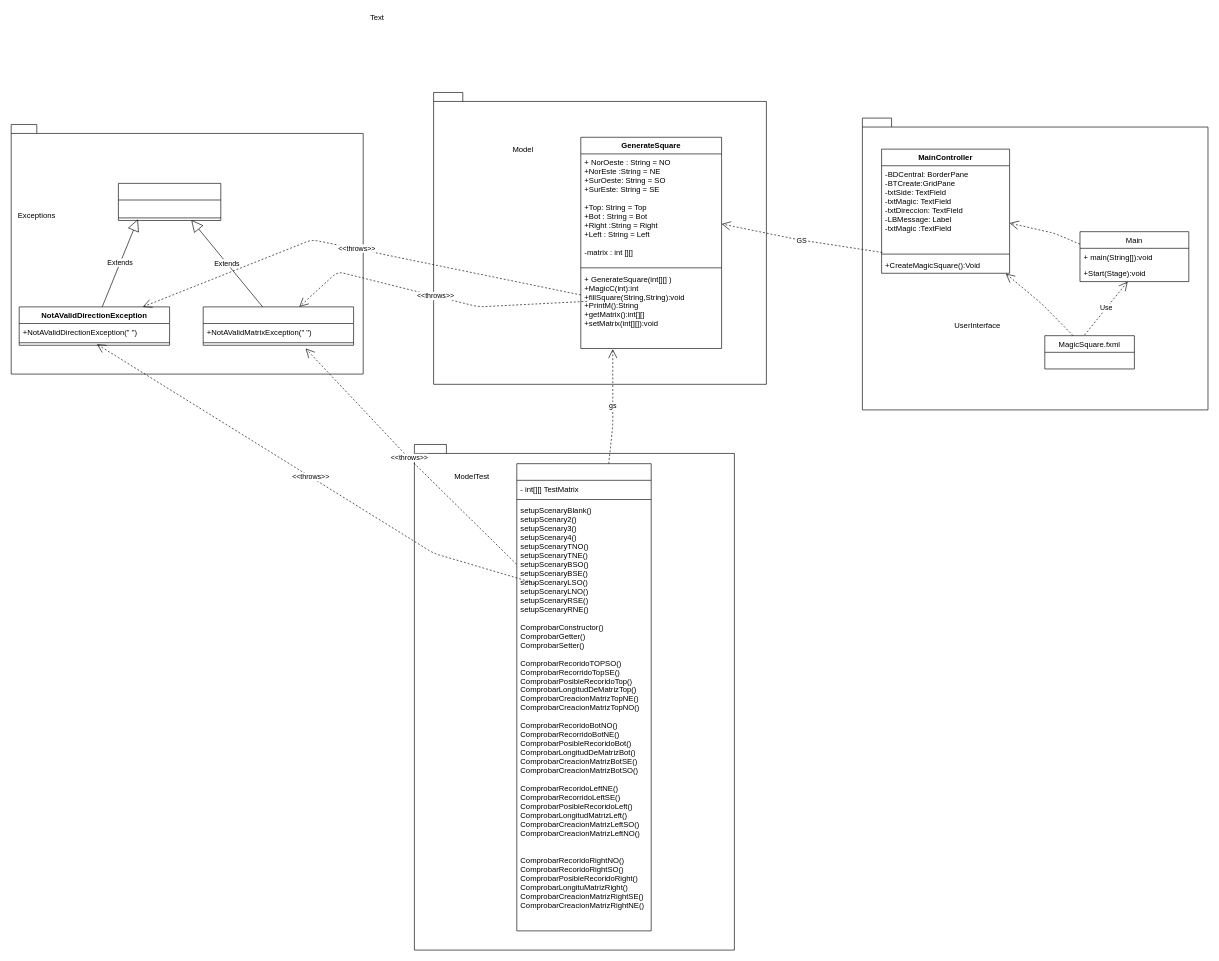
This 1219x961 diagram has some shape labels left out. The shapes that lost their labels are listed below. From the top down, each one's box as (x1, y1, x2, y2) in pixels, then its label:
(118, 183, 221, 220): java.lang.Exception
(203, 306, 354, 345): NotAValidMatrixExceptino
(516, 463, 651, 931): GenerateSquareTest
